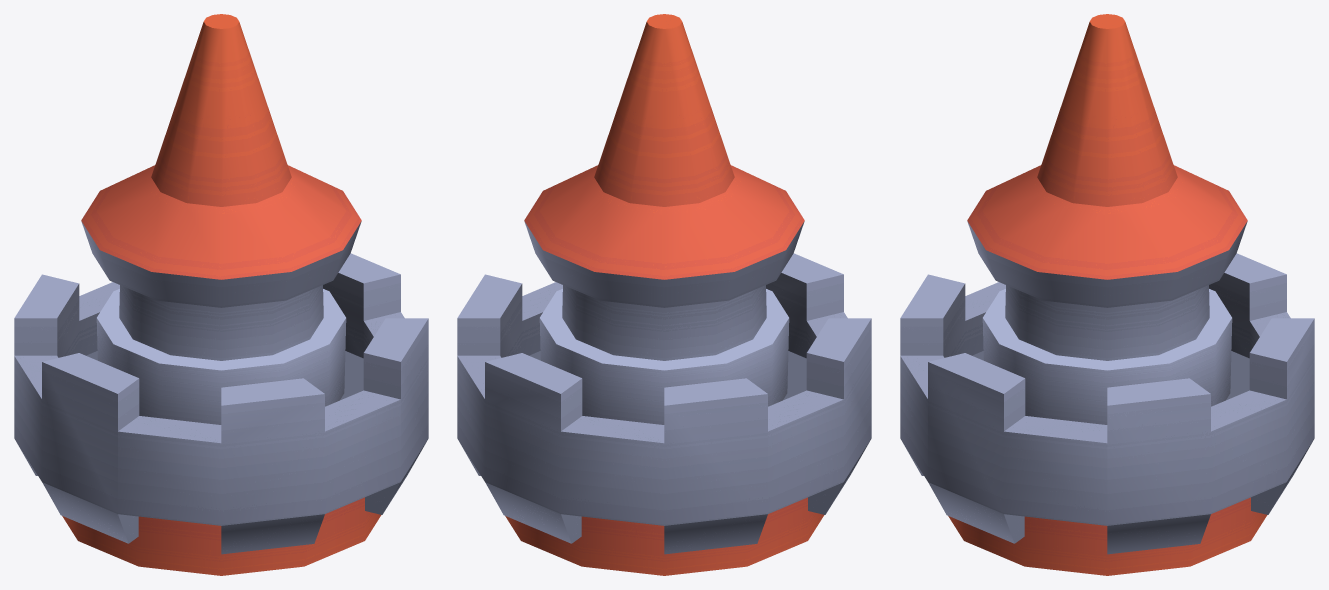
Rendered from tower-defense-kit--tower-round-roof-b.glb.
The picture shows the model from 3 angles, left to right: view 1: azimuth 30°, elevation 25°; view 2: azimuth 150°, elevation 25°; view 3: azimuth 270°, elevation 25°; orthographic projection.
Visible parts, largest first — view 1: tower-round-roof-b; view 2: tower-round-roof-b; view 3: tower-round-roof-b.
Part boxes in pixels (left/top/right/bottom): tower-round-roof-b: left=14, top=14, right=428, bottom=575; tower-round-roof-b: left=457, top=14, right=871, bottom=575; tower-round-roof-b: left=900, top=14, right=1314, bottom=575.
Bounding box in the file's own units: 1 × 1.29 × 1.
Materials: 1 (1 with a texture image).
